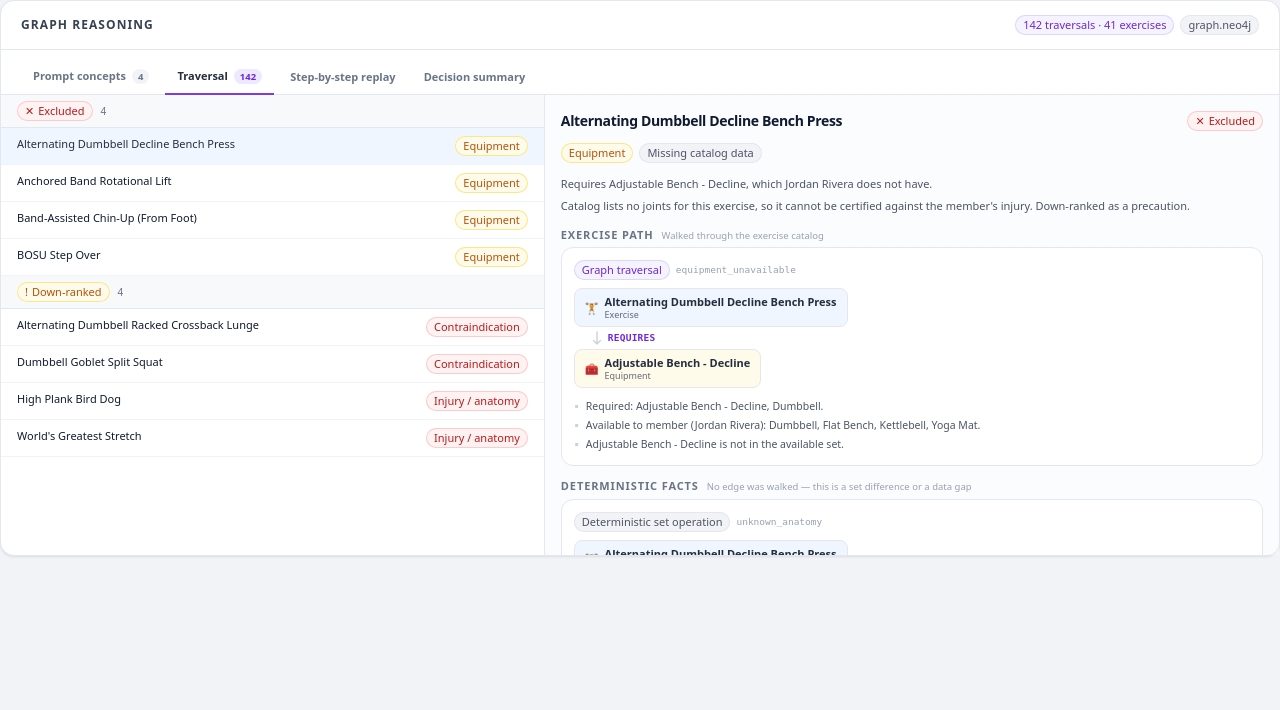
Scenario: Decision summary tab › surfaces the longitudinal context alongside the LLM boundary
What coordinates should you click on to do the following:
click the tab "Decision summary"
I would click on:
 (474, 78)
Its box is top-left (412, 60), bottom-right (537, 95).
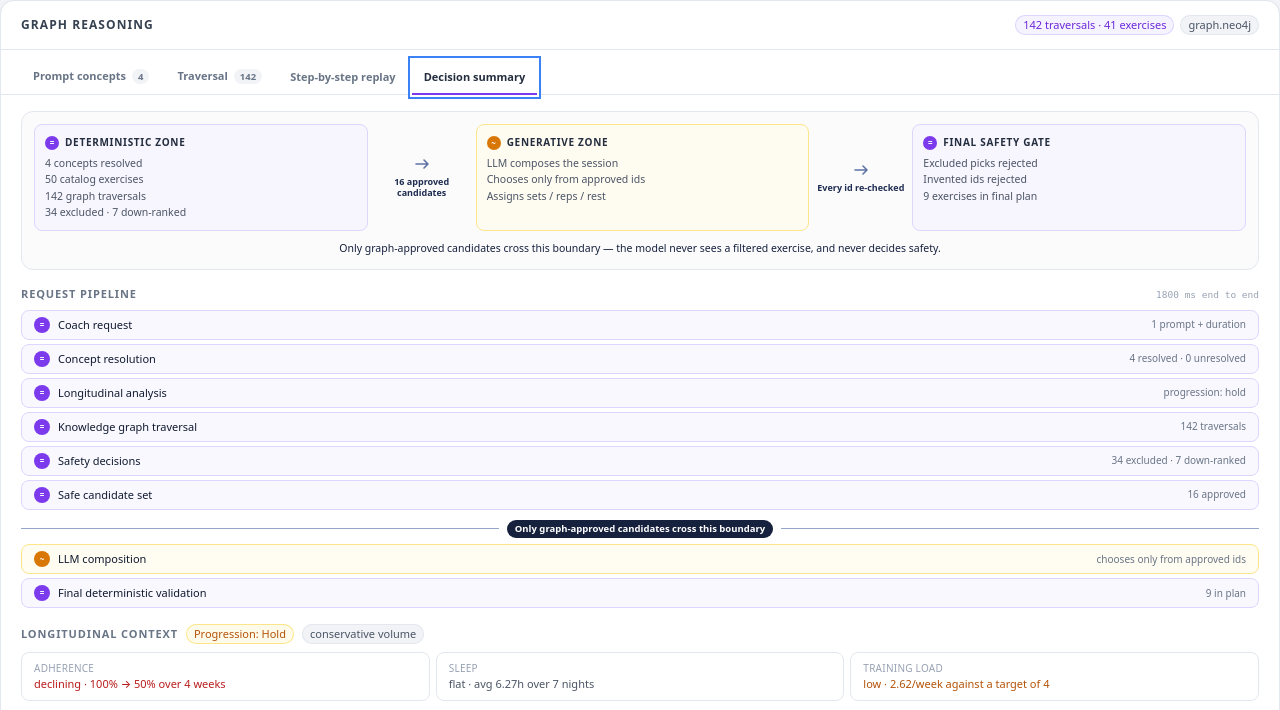
Check: the text "Longitudinal context" is shown, box top-left (21, 626), bottom-right (178, 642)
Check: the text "Progression: Hold" is shown, box top-left (186, 624), bottom-right (294, 644)
